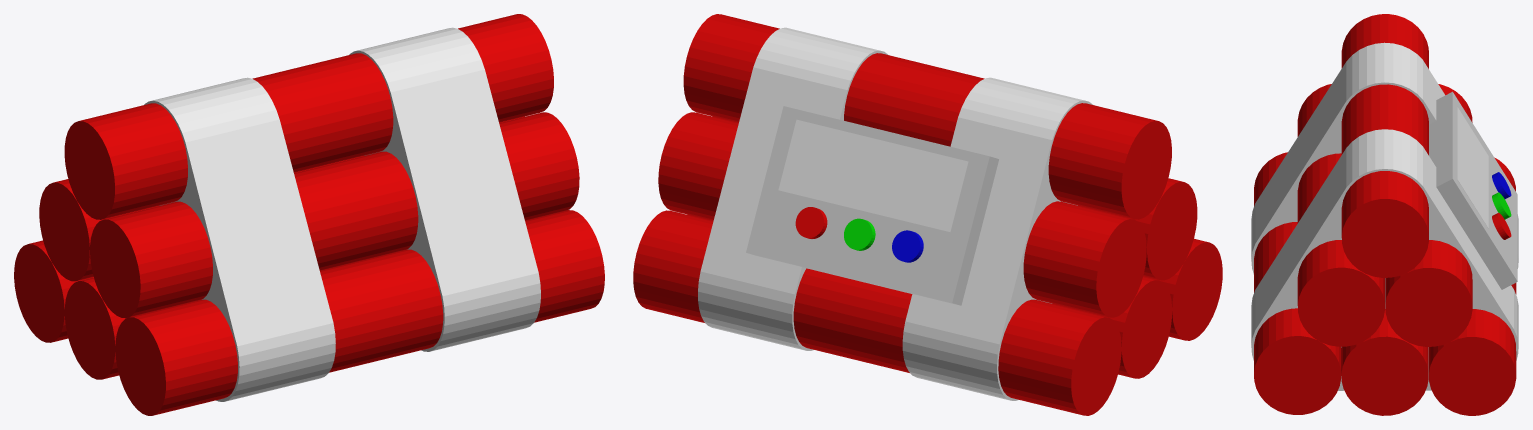
File: Bomb.fbx
3 renders of one model, left to right at view 1: azimuth 30°, elevation 25°; view 2: azimuth 150°, elevation 25°; view 3: azimuth 270°, elevation 25°, orthographic. The views are drawn at different scales.
Parts seen in each view (by area): view 1: Cylinder.006, Cylinder, Cylinder.005, Cylinder.004, Cylinder.001, Cylinder.002, Cylinder.003; view 2: Cylinder.006, Cylinder.002, Cylinder, Cube, Cylinder.001, Cube.001, Cylinder.004, Cylinder.003, Cylinder.005, Cylinder.009, Cylinder.008, Cylinder.007; view 3: Cylinder.006, Cylinder, Cylinder.004, Cylinder.005, Cylinder.001, Cylinder.002, Cube, Cylinder.003, Cube.001, Cylinder.007, Cylinder.009, Cylinder.008.
Boxes of the visible parts, x1,y1,x2,y2 form: Cylinder.006: (144, 27, 540, 401); Cylinder: (64, 14, 553, 219); Cylinder.005: (115, 210, 604, 415); Cylinder.004: (90, 112, 579, 318); Cylinder.001: (39, 116, 524, 281); Cylinder.002: (14, 240, 93, 342); Cylinder.003: (64, 277, 125, 379); Cylinder.006: (698, 27, 1092, 400); Cylinder.002: (633, 210, 1121, 415); Cylinder: (683, 14, 1171, 219); Cube: (746, 106, 998, 305); Cylinder.001: (658, 112, 1146, 317); Cube.001: (778, 119, 968, 232); Cylinder.004: (713, 116, 1197, 280); Cylinder.003: (687, 214, 1172, 378); Cylinder.005: (1143, 238, 1222, 340); Cylinder.009: (892, 230, 923, 262); Cylinder.008: (844, 218, 875, 250); Cylinder.007: (795, 207, 827, 238); Cylinder.006: (1251, 42, 1518, 390); Cylinder: (1341, 14, 1428, 277); Cylinder.004: (1297, 84, 1384, 346); Cylinder.005: (1254, 152, 1341, 414); Cylinder.001: (1385, 84, 1472, 346); Cylinder.002: (1429, 157, 1516, 415); Cube: (1429, 91, 1517, 289); Cylinder.003: (1341, 309, 1428, 415); Cube.001: (1457, 106, 1488, 228); Cylinder.007: (1492, 212, 1511, 239); Cylinder.009: (1492, 172, 1511, 199); Cylinder.008: (1492, 192, 1511, 219).
Size of the model in its own units: 3.64 by 2.03 by 2.22.
